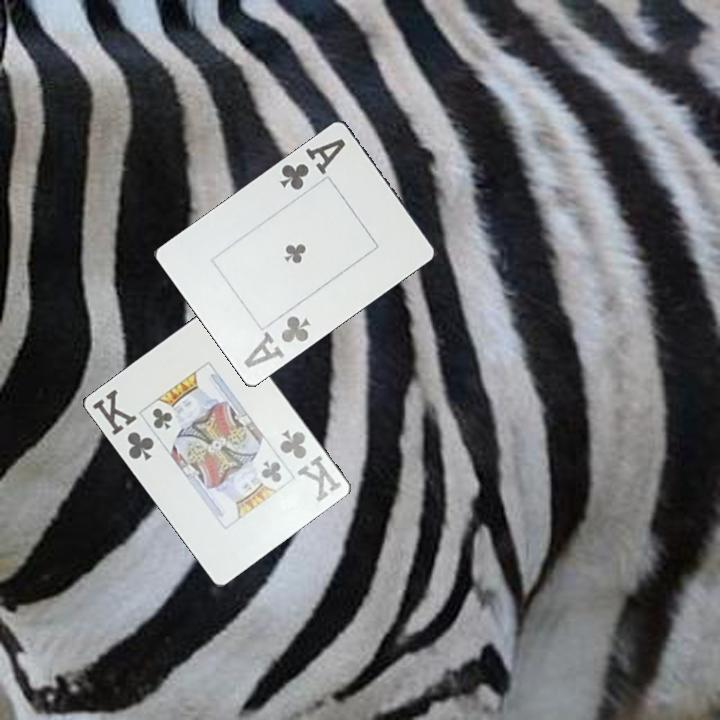Ac: (240, 311, 314, 371), (276, 134, 349, 193)
Kc: (276, 425, 344, 505), (88, 385, 157, 463)
